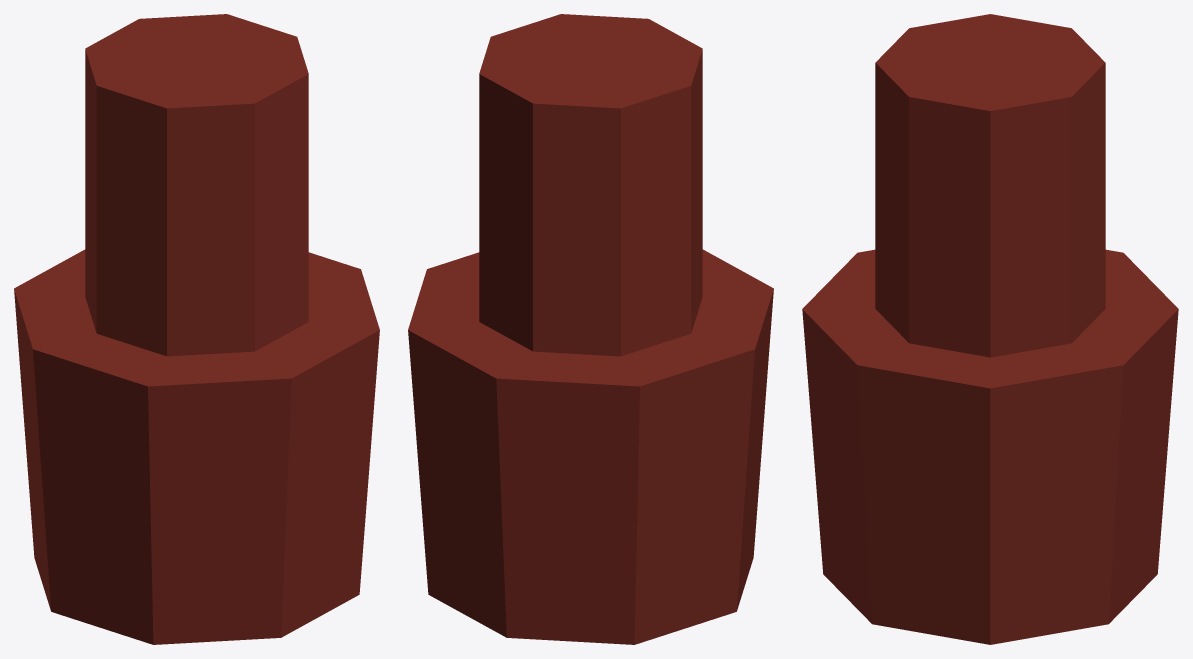
Rendered from prop_buoy.glb.
3 views of the same model, side by side, from view 1: azimuth 30°, elevation 25°; view 2: azimuth 150°, elevation 25°; view 3: azimuth 270°, elevation 25° (orthographic).
Visible parts, largest first — view 1: buoy_can_red; view 2: buoy_can_red; view 3: buoy_can_red.
Boxes of the visible parts, x1=… form: buoy_can_red: x1=14, y1=14, x2=379, y2=644; buoy_can_red: x1=408, y1=14, x2=773, y2=644; buoy_can_red: x1=802, y1=14, x2=1178, y2=644.
Size of the model in its own units: 1.8 by 2.7 by 1.8.
